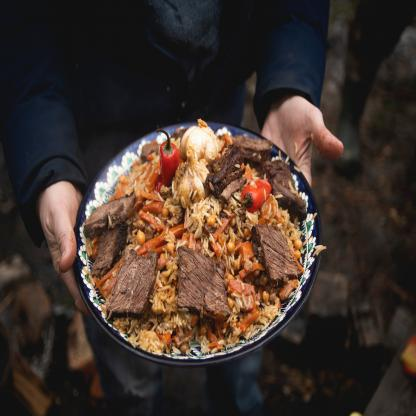Carne: (181, 242, 228, 314), (116, 252, 153, 315), (88, 200, 121, 268), (265, 226, 297, 280)
